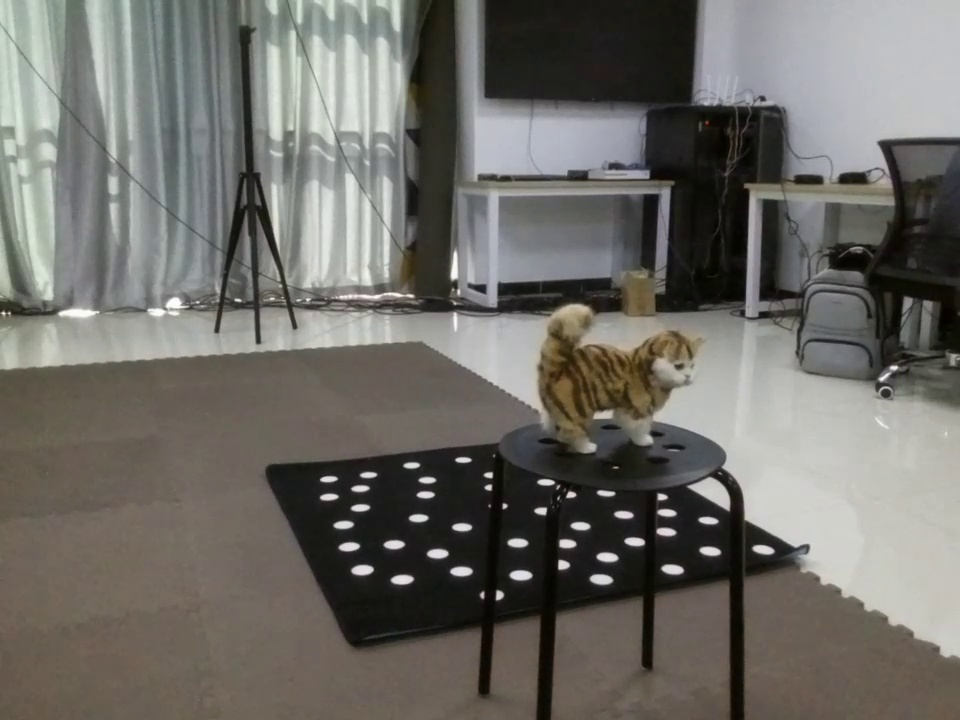cat: (508, 304, 721, 458)
